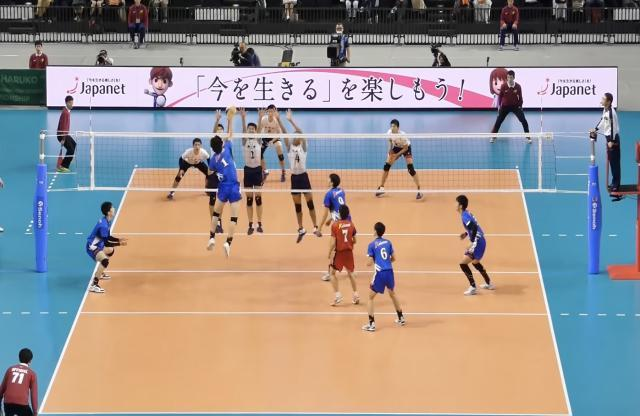spike: (204, 105, 242, 262)
